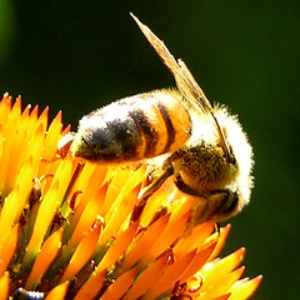bee: (72, 13, 262, 231)
